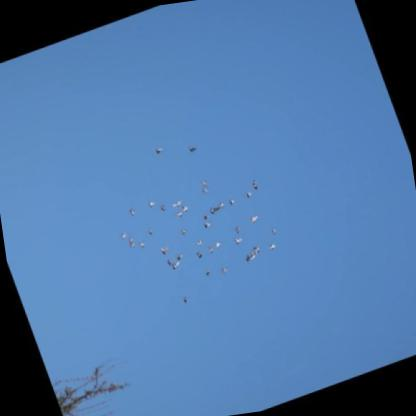bird: (248, 176, 262, 192), (157, 242, 173, 256), (231, 233, 246, 246), (205, 203, 220, 215), (151, 144, 166, 156), (242, 188, 255, 201), (185, 142, 199, 154), (168, 259, 183, 270), (248, 212, 261, 224), (243, 252, 256, 264), (197, 185, 210, 197), (210, 238, 223, 250), (218, 265, 231, 277), (172, 250, 185, 262), (144, 197, 157, 209), (229, 224, 240, 235), (201, 219, 212, 230), (179, 294, 190, 305), (268, 226, 279, 236), (268, 241, 278, 252), (203, 244, 214, 254), (157, 202, 168, 212), (135, 240, 146, 250), (197, 177, 209, 186), (178, 204, 190, 213), (171, 200, 183, 209), (194, 249, 204, 259), (250, 246, 261, 255), (199, 211, 210, 220), (172, 209, 183, 218), (177, 227, 188, 236), (248, 250, 257, 260), (127, 206, 136, 216), (217, 201, 226, 210), (165, 257, 174, 266), (128, 241, 137, 250), (118, 231, 127, 240), (204, 268, 214, 276), (194, 239, 203, 247), (227, 198, 234, 207), (147, 228, 154, 237), (127, 236, 134, 243)
